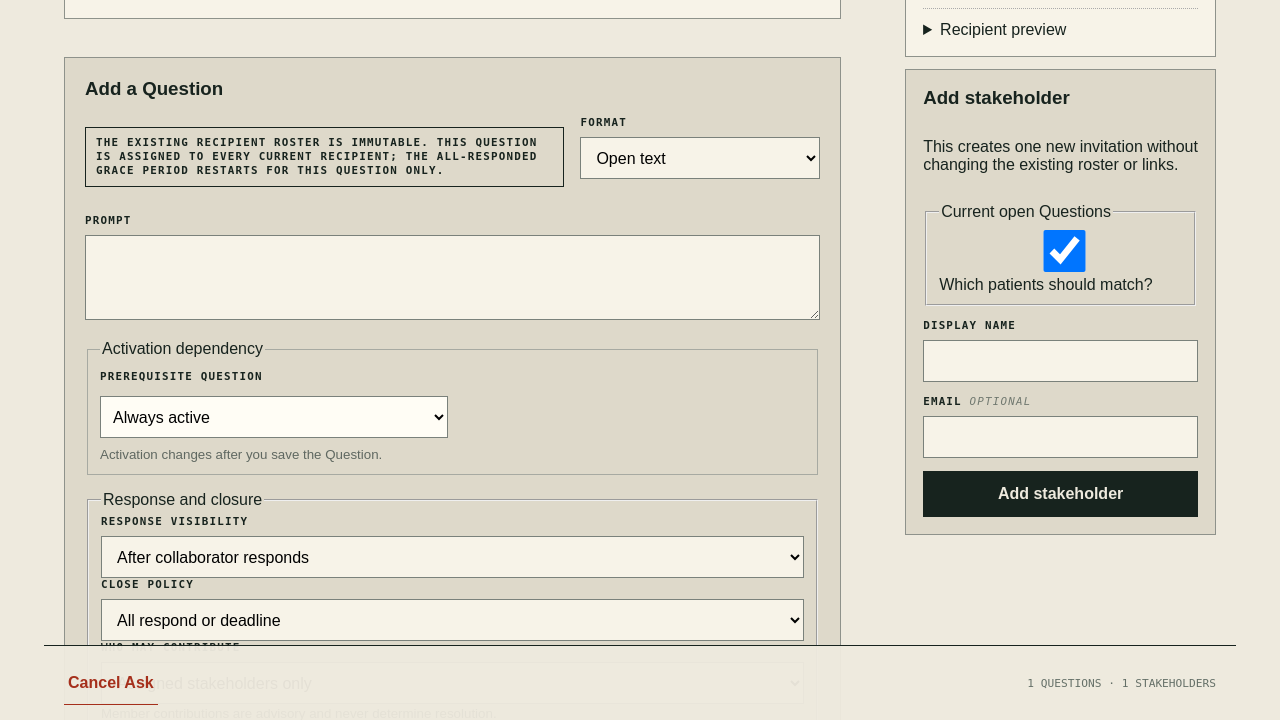
Test case: draft delivery › uses sent mutation capabilities and shows only the new recipient artifact
(page scrolled)
Expected: the text "existing recipient roster is immutable" is shown, 96,136 -> 537,177
Type "New person" into the field named "Stakeholder name".
click(1061, 361); type("New person")  # box 923,340 -> 1198,382
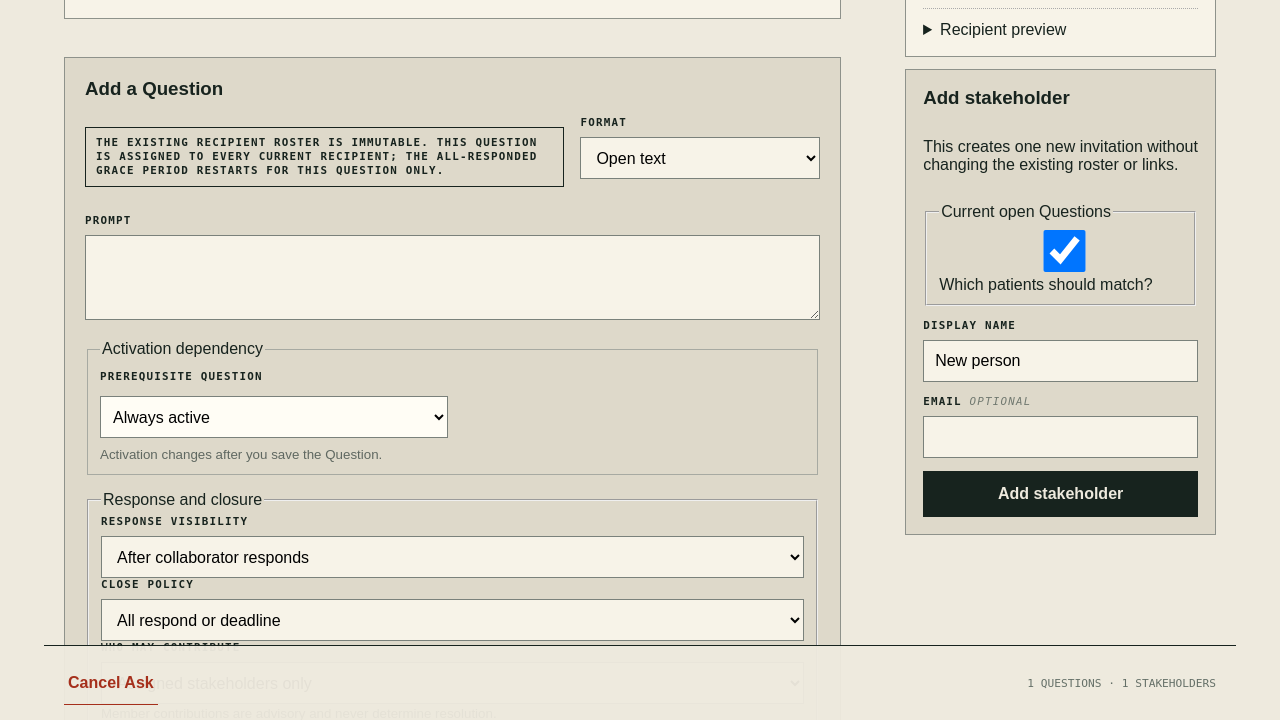
Click the button "Add stakeholder".
click(1061, 494)  # box 923,471 -> 1198,517
(page scrolled)
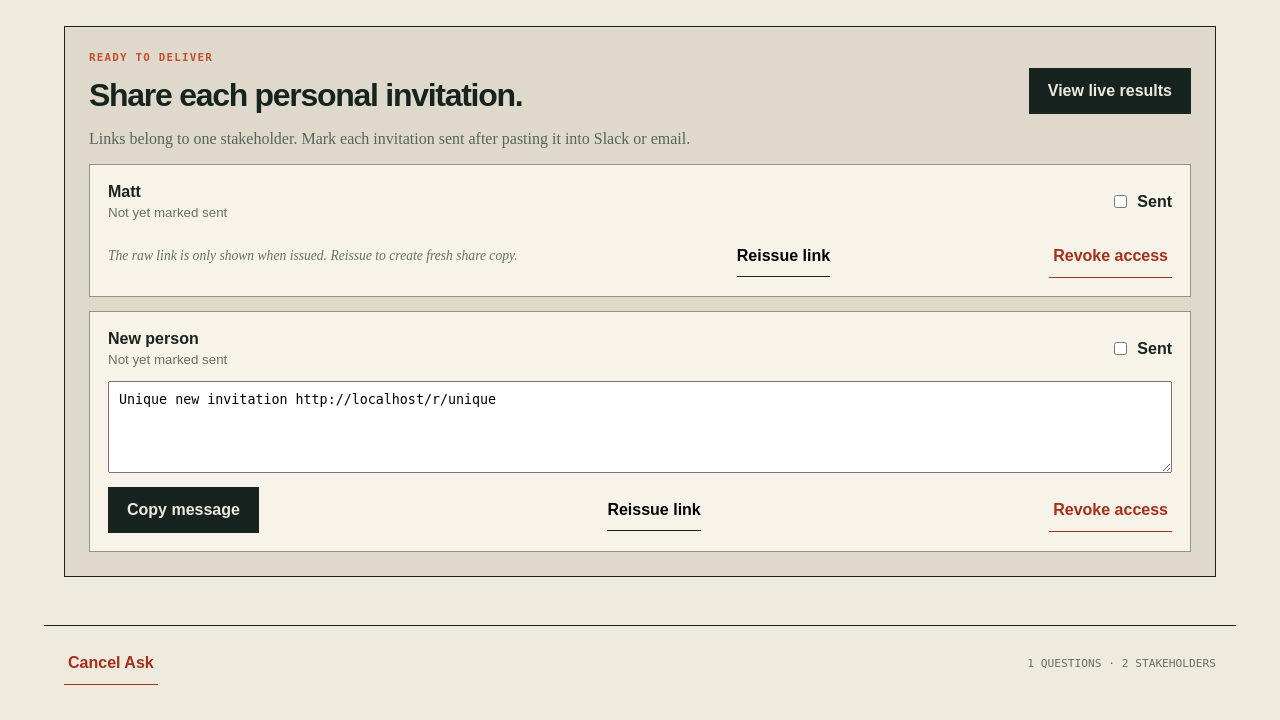
Now the text box showing "Unique new invitation" is shown, box 108,381 -> 1172,473
